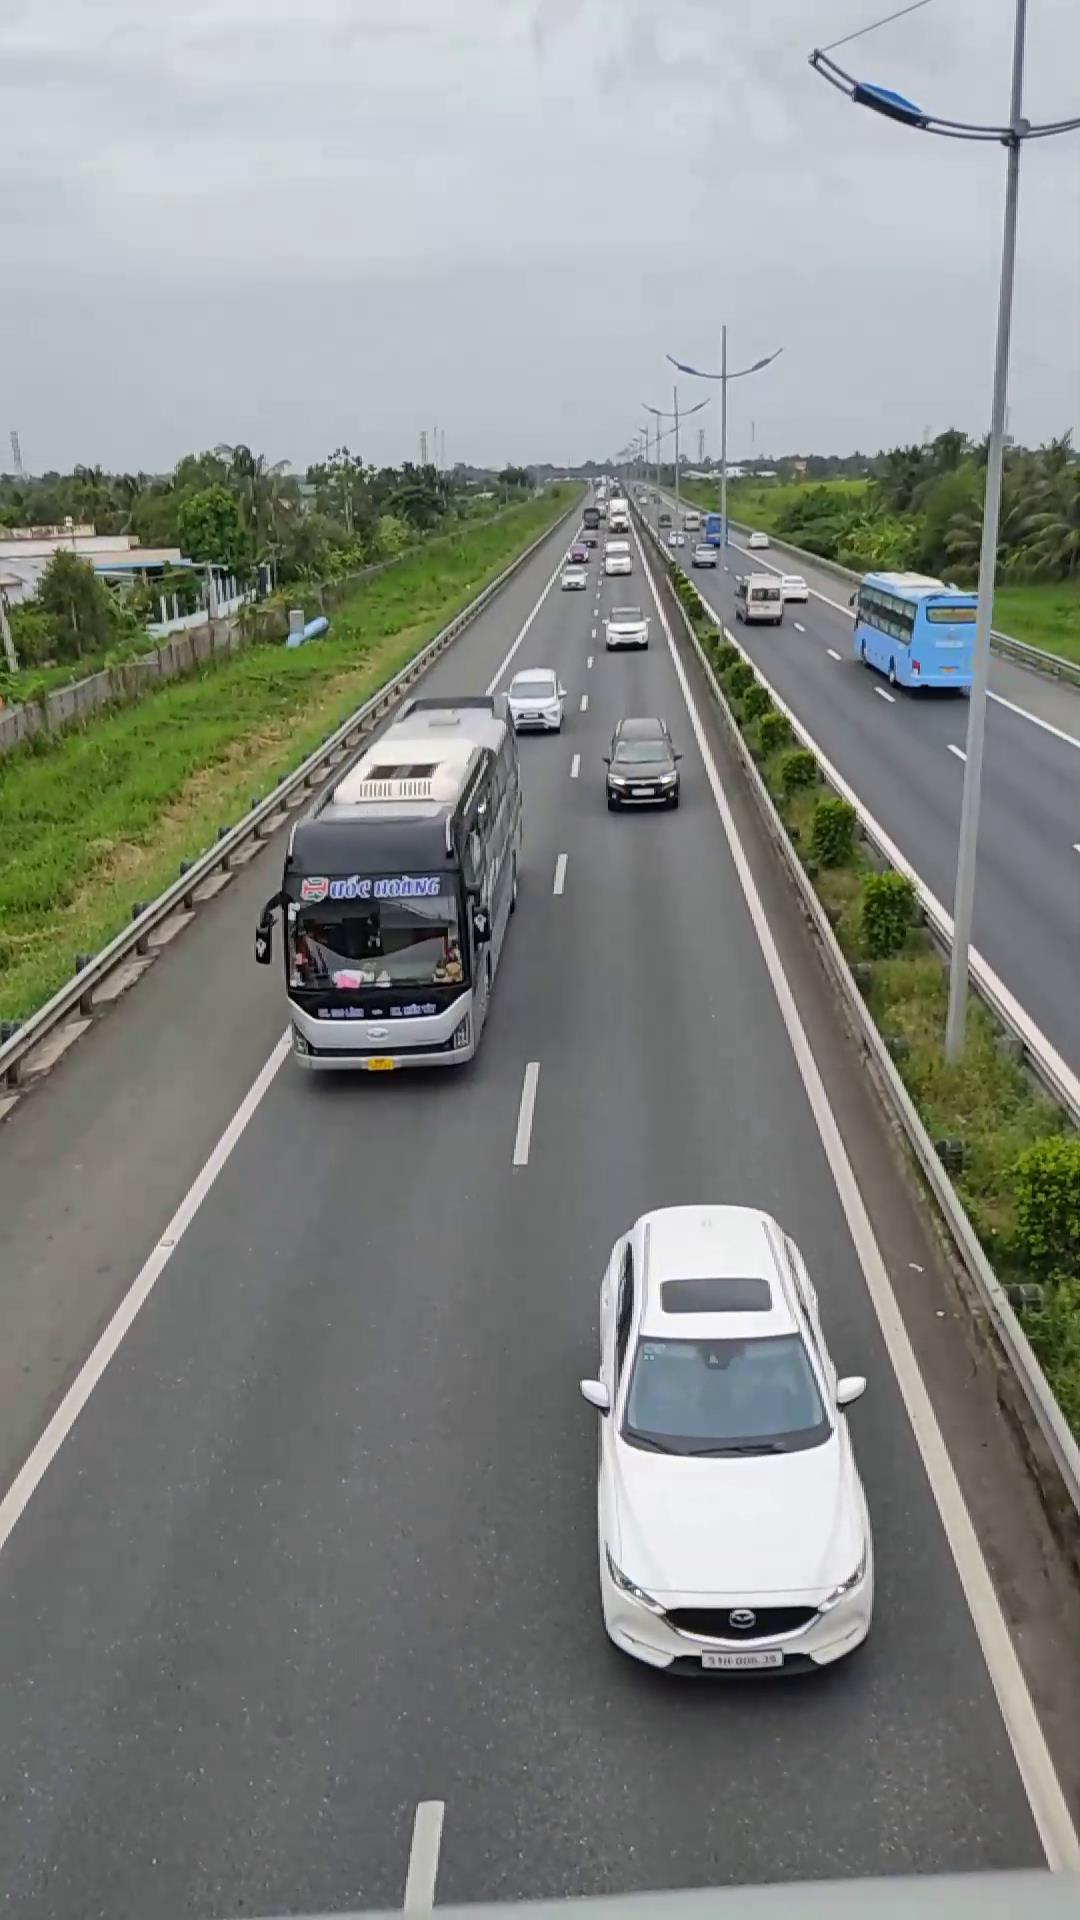bus: (260, 703, 523, 1074)
car: (580, 1199, 879, 1682), (601, 717, 682, 811), (491, 667, 571, 733)
